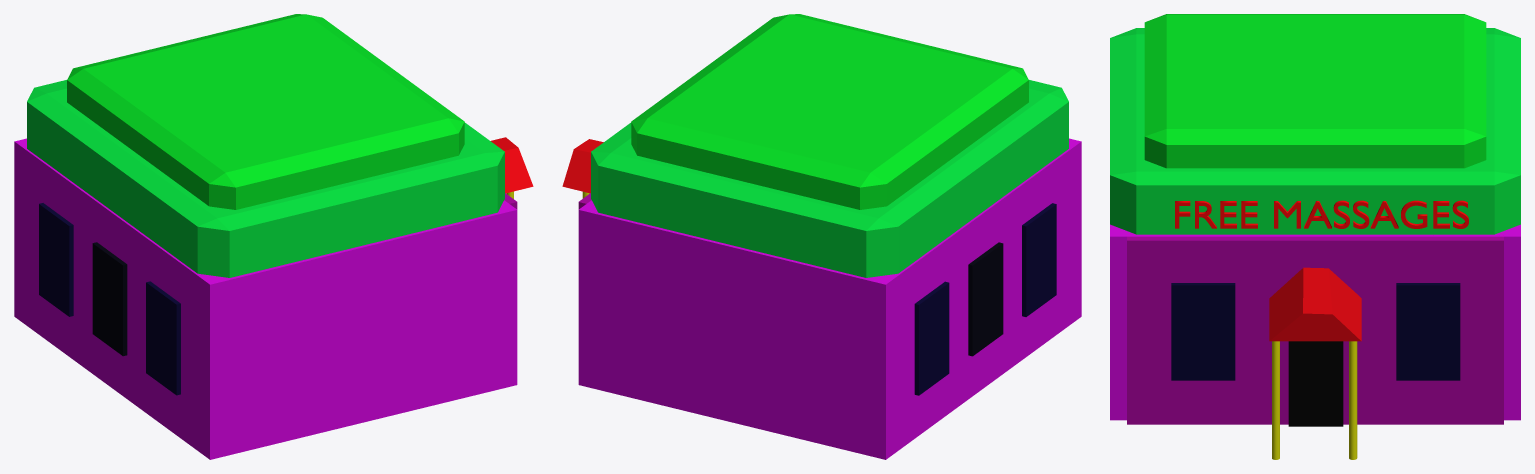
The model's file is brothel.fbx.
3 views of the same model, side by side, from view 1: azimuth 30°, elevation 25°; view 2: azimuth 150°, elevation 25°; view 3: azimuth 270°, elevation 25° (orthographic). The views are drawn at different scales.
Visible parts, largest first — view 1: Cube, Cube.009, Cube.003, Cube.008, Cube.007, Cube.006, Cube.002; view 2: Cube, Cube.009, Cube.003, Cube.008, Cube.006, Cube.007, Cube.002; view 3: Cube.009, Cube.001, Cube.003, Cube, Cube.004, Cube.005, Cube.002, Cube.010, fs'l#[, Cylinder.002, Cylinder.
Boxes of the visible parts, x1,y1,x2,y2 form: Cube: [14, 138, 517, 459]; Cube.009: [67, 14, 464, 209]; Cube.003: [27, 80, 504, 277]; Cube.008: [92, 242, 127, 356]; Cube.007: [146, 281, 180, 395]; Cube.006: [39, 203, 73, 316]; Cube.002: [491, 137, 533, 193]; Cube: [578, 138, 1081, 459]; Cube.009: [631, 14, 1028, 209]; Cube.003: [591, 80, 1068, 277]; Cube.008: [968, 242, 1003, 356]; Cube.006: [914, 281, 949, 395]; Cube.007: [1022, 203, 1056, 316]; Cube.002: [562, 139, 603, 193]; Cube.009: [1144, 14, 1486, 168]; Cube.001: [1127, 236, 1503, 424]; Cube.003: [1110, 28, 1520, 234]; Cube: [1110, 224, 1520, 420]; Cube.004: [1171, 283, 1235, 380]; Cube.005: [1396, 283, 1460, 380]; Cube.002: [1269, 267, 1361, 341]; Cube.010: [1288, 341, 1343, 426]; fs'l#[: [1175, 200, 1468, 228]; Cylinder.002: [1349, 341, 1357, 459]; Cylinder: [1272, 341, 1279, 459].
Size of the model in its own units: 3395 by 2064 by 2834.
